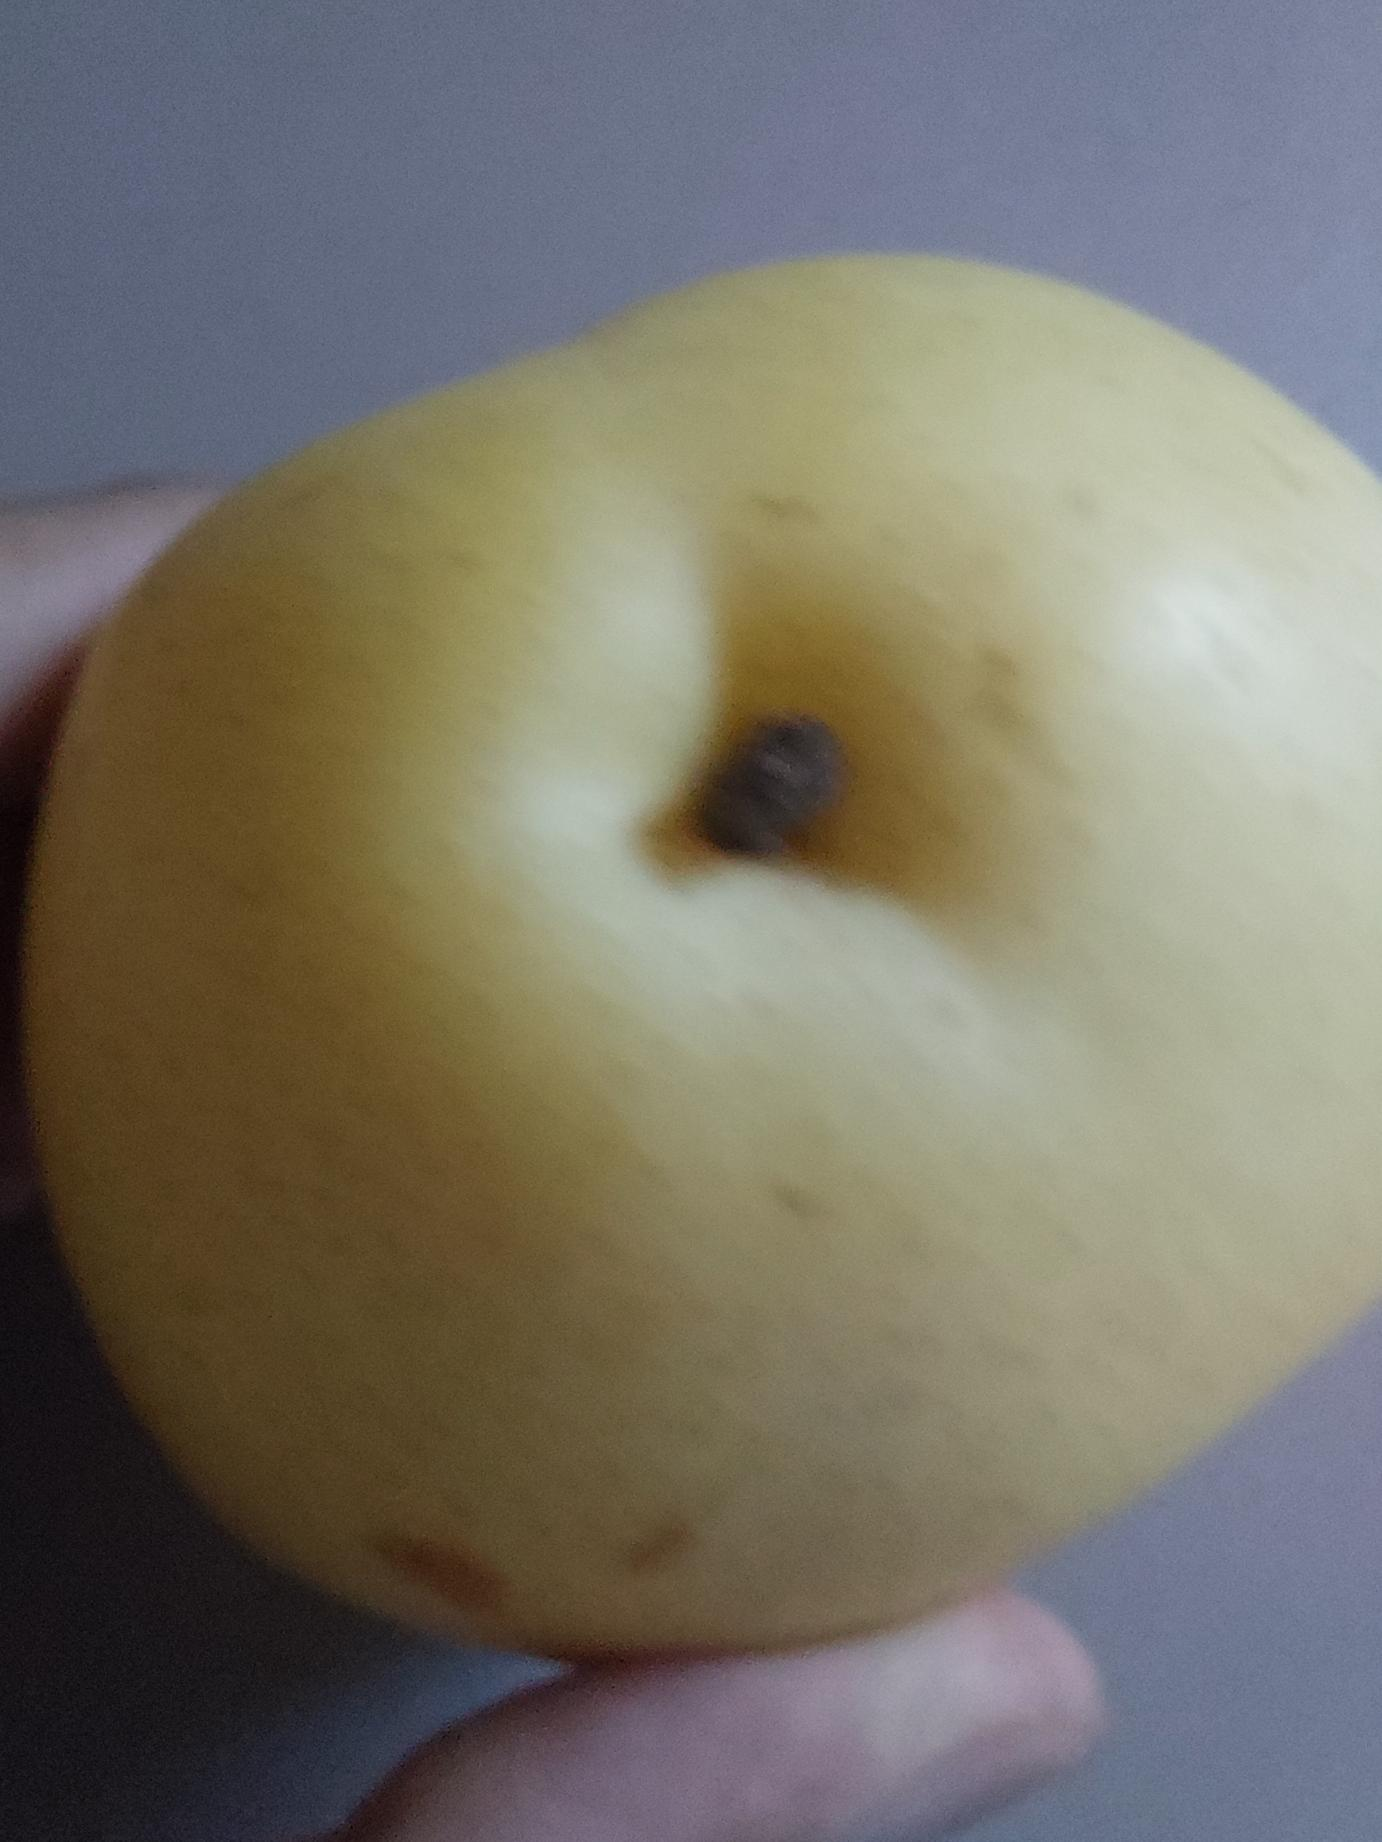Good Pear: (27, 258, 1382, 1655)
